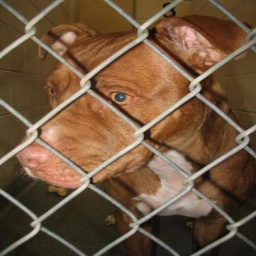dog: (18, 14, 255, 256)
